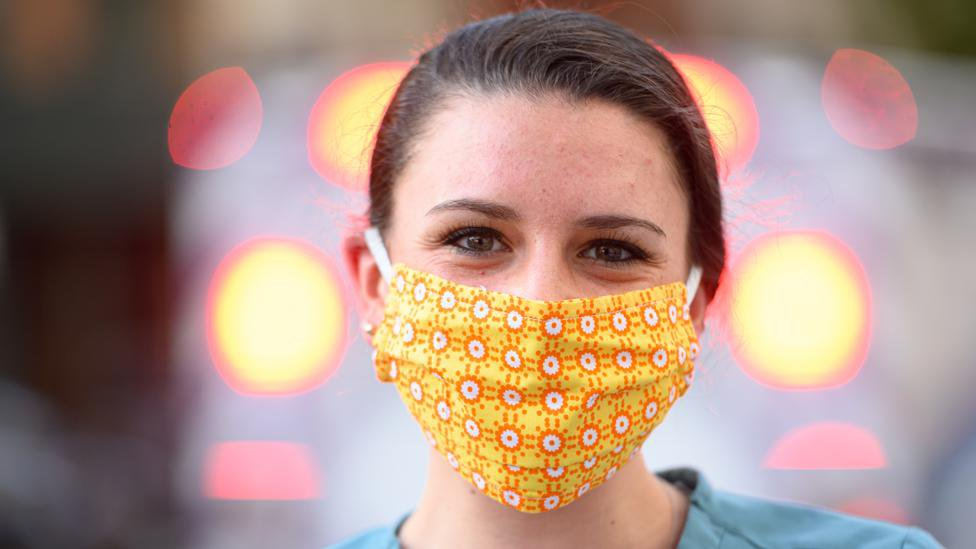mask: (346, 23, 773, 517)
